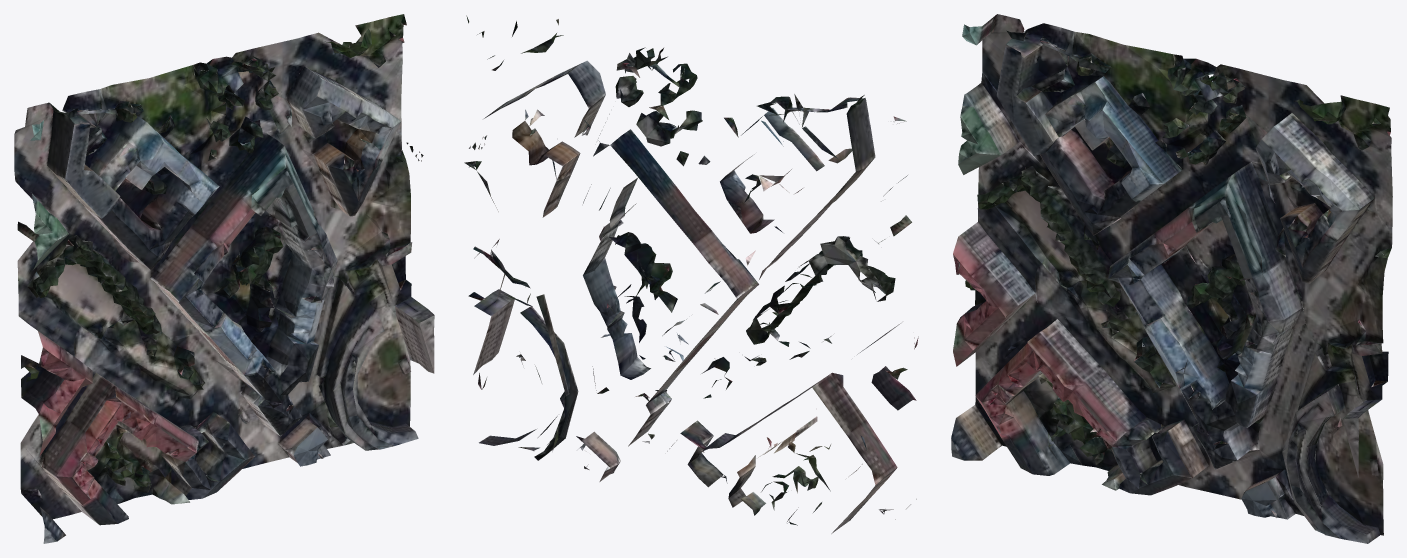
File: Tile_+031_+022_L16_000.glb
3 views of the same model, side by side, from view 1: azimuth 30°, elevation 25°; view 2: azimuth 150°, elevation 25°; view 3: azimuth 330°, elevation 25° (orthographic). The views are drawn at different scales.
Bounding box in the file's own units: 250 × 250 × 40.29.
Materials: 1 (1 with a texture image).
